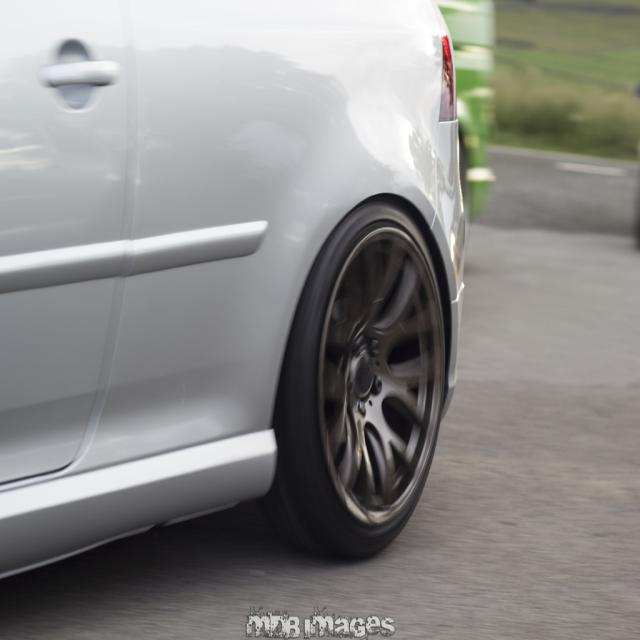Passenger Car: (1, 1, 463, 590)
